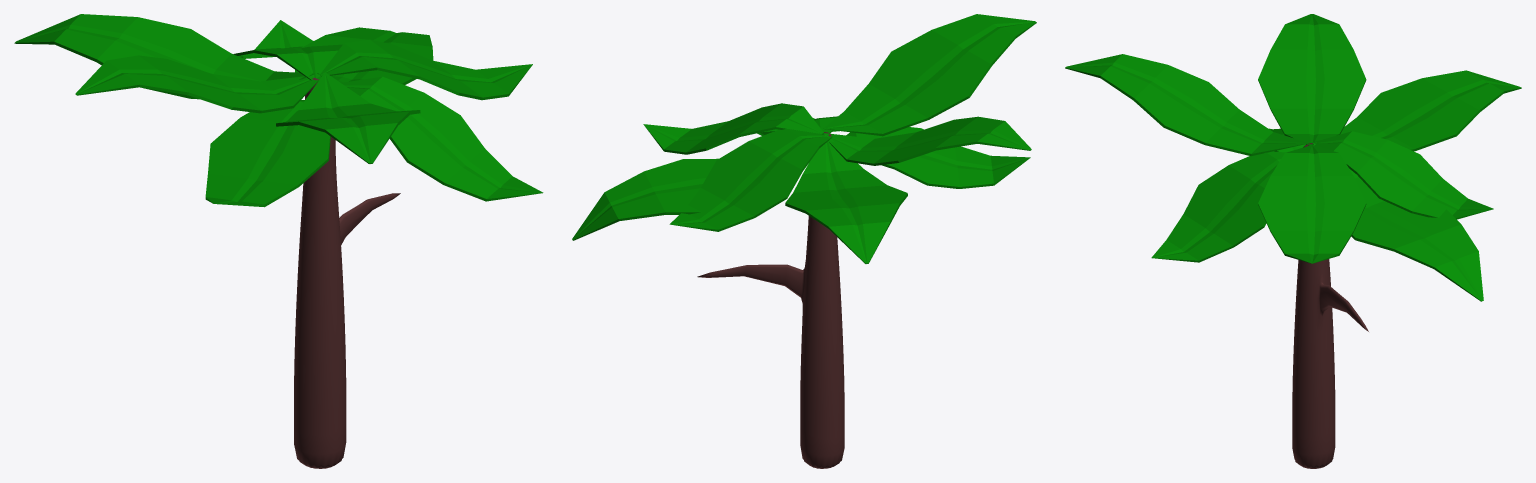
Rendered from Tree 3.fbx.
3 views of the same model, side by side, from view 1: azimuth 30°, elevation 25°; view 2: azimuth 150°, elevation 25°; view 3: azimuth 270°, elevation 25° (orthographic). The views are drawn at different scales.
Parts seen in each view (by area): view 1: pCylinder1, pPlane5, pPlane6, pPlane8, pPlane2, pPlane1, pPlane3, pPlane4, pPlane7; view 2: pPlane3, pCylinder1, pPlane4, pPlane8, pPlane7, pPlane2, pPlane6, pPlane1; view 3: pPlane2, pPlane3, pPlane1, pCylinder1, pPlane8, pPlane5, pPlane4, pPlane7.
Part boxes in pixels (<box>): pCylinder1: <box>294,77,400,468</box>; pPlane5: <box>341,76,543,201</box>; pPlane6: <box>205,100,330,207</box>; pPlane8: <box>14,14,314,99</box>; pPlane2: <box>75,55,321,113</box>; pPlane1: <box>320,39,532,100</box>; pPlane3: <box>276,72,420,163</box>; pPlane4: <box>233,20,342,80</box>; pPlane7: <box>295,27,433,84</box>; pPlane3: <box>823,14,1036,136</box>; pCylinder1: <box>697,132,844,468</box>; pPlane4: <box>669,128,832,231</box>; pPlane8: <box>785,134,907,263</box>; pPlane7: <box>572,133,824,240</box>; pPlane2: <box>824,116,1031,165</box>; pPlane6: <box>846,127,1030,188</box>; pPlane1: <box>643,103,823,154</box>; pPlane2: <box>1258,14,1366,145</box>; pPlane3: <box>1065,54,1308,156</box>; pPlane1: <box>1258,145,1366,263</box>; pCylinder1: <box>1292,143,1368,468</box>; pPlane8: <box>1314,70,1521,151</box>; pPlane5: <box>1151,151,1285,262</box>; pPlane4: <box>1310,131,1493,219</box>; pPlane7: <box>1313,143,1483,301</box>.
Size of the model in its own units: 26.51 by 24.76 by 27.98.
